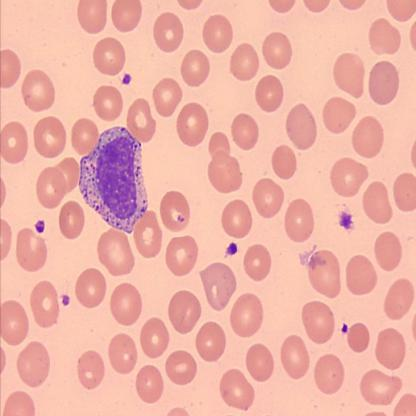Myelocyte: (78, 127, 148, 232)
